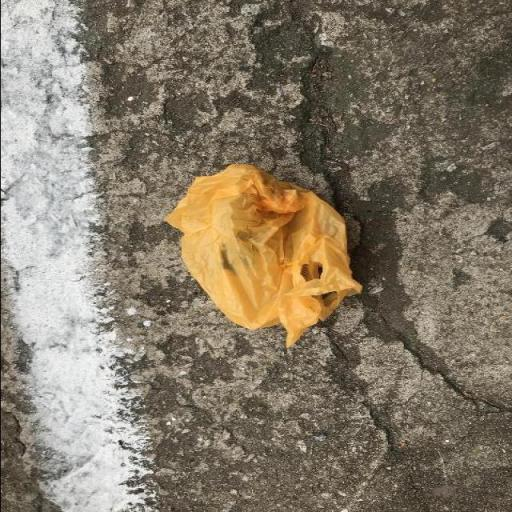plastic-bag: (157, 158, 367, 348)
